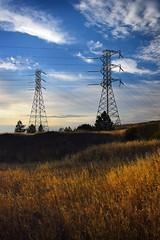power_tower: (91, 48, 129, 131), (27, 68, 52, 133)
